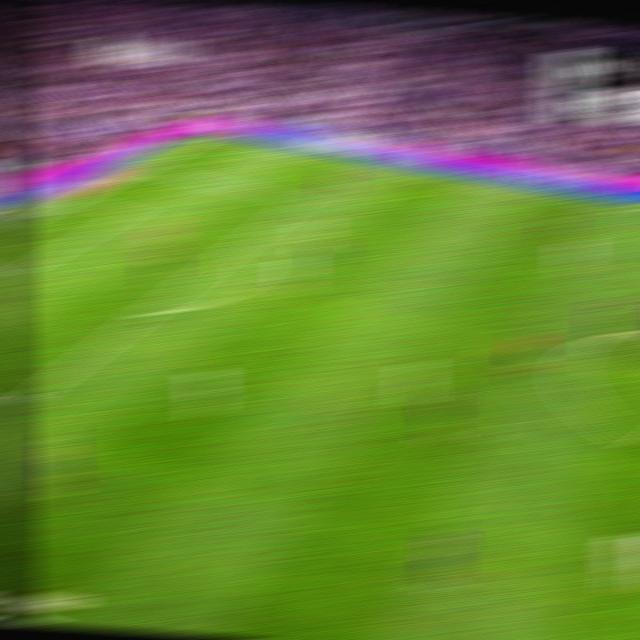bigarea_bottom_inner: (8, 388, 40, 414)
bigarea_top_inner: (290, 195, 314, 205)
bigarea_top_outter: (132, 162, 159, 172)
bottom_arc_area_intersection: (135, 302, 164, 321)
corner: (198, 133, 224, 140)
smallarea_top_inner: (119, 208, 142, 216)
top_arc_area_intersection: (229, 237, 255, 250)
